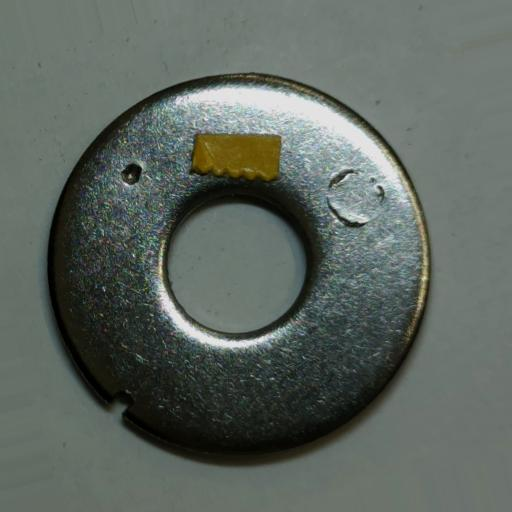burr: (107, 391, 134, 419)
circular_cavity: (120, 163, 143, 186)
